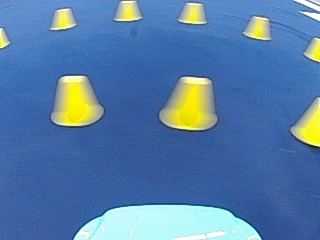cone: (160, 76, 217, 130), (50, 74, 101, 127), (291, 97, 319, 145), (242, 15, 271, 40), (178, 2, 206, 24), (50, 7, 76, 30), (114, 0, 142, 21), (303, 37, 319, 61), (0, 27, 11, 48)
